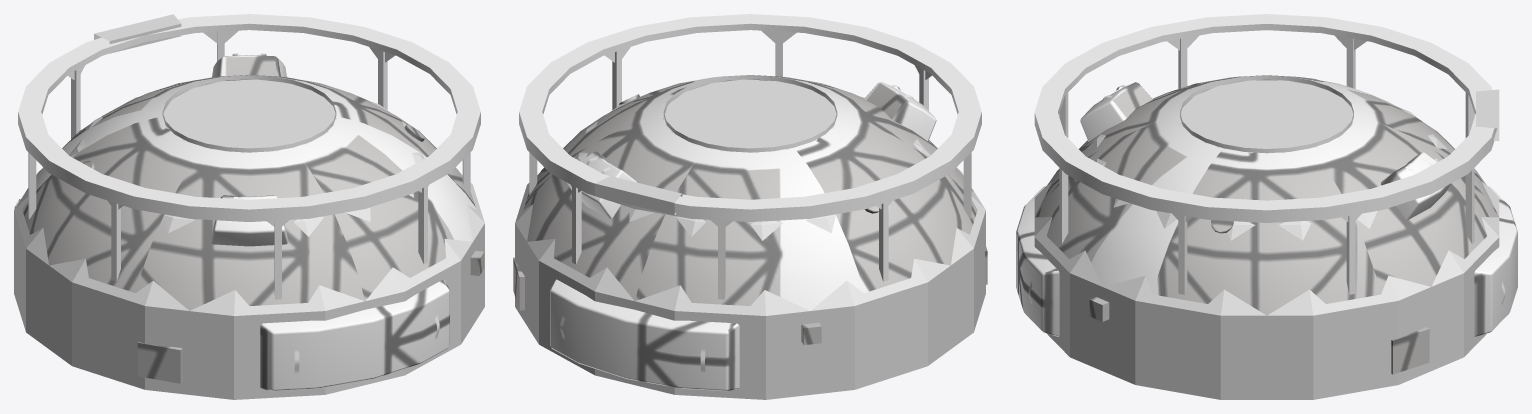
The model's file is instrument_section.fbx.
3 renders of one model, left to right at view 1: azimuth 30°, elevation 25°; view 2: azimuth 150°, elevation 25°; view 3: azimuth 270°, elevation 25°, orthographic.
Visible parts, largest first — view 1: mesh, c_1, c_2; view 2: mesh, c_1, c_2; view 3: mesh, c_1, c_2.
Boxes of the visible parts, x1=… form: mesh: x1=14, y1=14, x2=484, y2=391; c_1: x1=14, y1=79, x2=484, y2=399; c_2: x1=94, y1=14, x2=181, y2=53; mesh: x1=513, y1=14, x2=987, y2=391; c_1: x1=515, y1=79, x2=985, y2=399; c_2: x1=595, y1=176, x2=682, y2=215; mesh: x1=1016, y1=14, x2=1517, y2=374; c_1: x1=1034, y1=80, x2=1499, y2=399; c_2: x1=1476, y1=89, x2=1499, y2=140.
Bounding box in the file's own units: 2.5 × 1.14 × 2.7.
